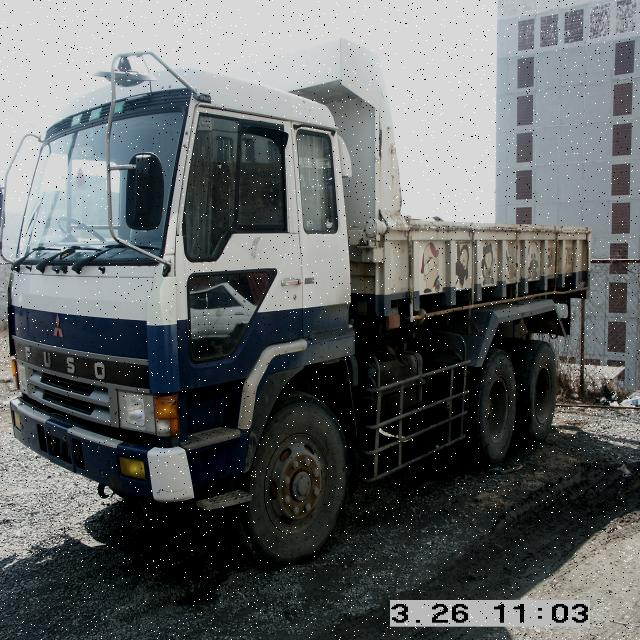truck: (0, 74, 593, 571)
